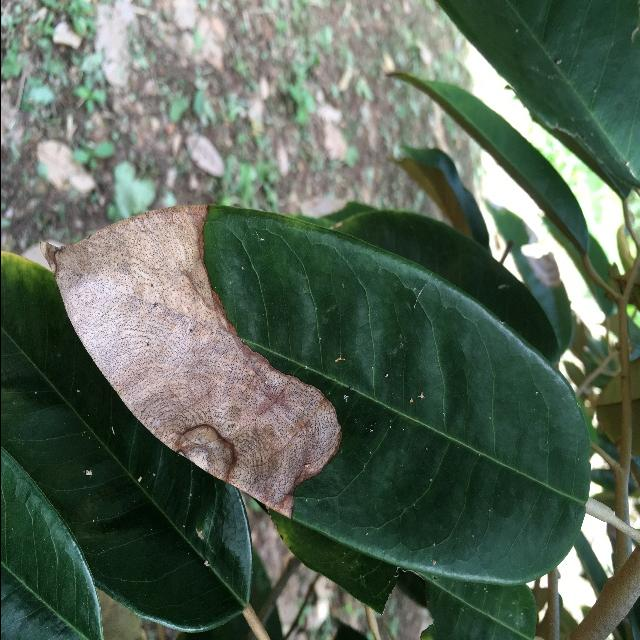Leaf Blight: (33, 194, 595, 593)
